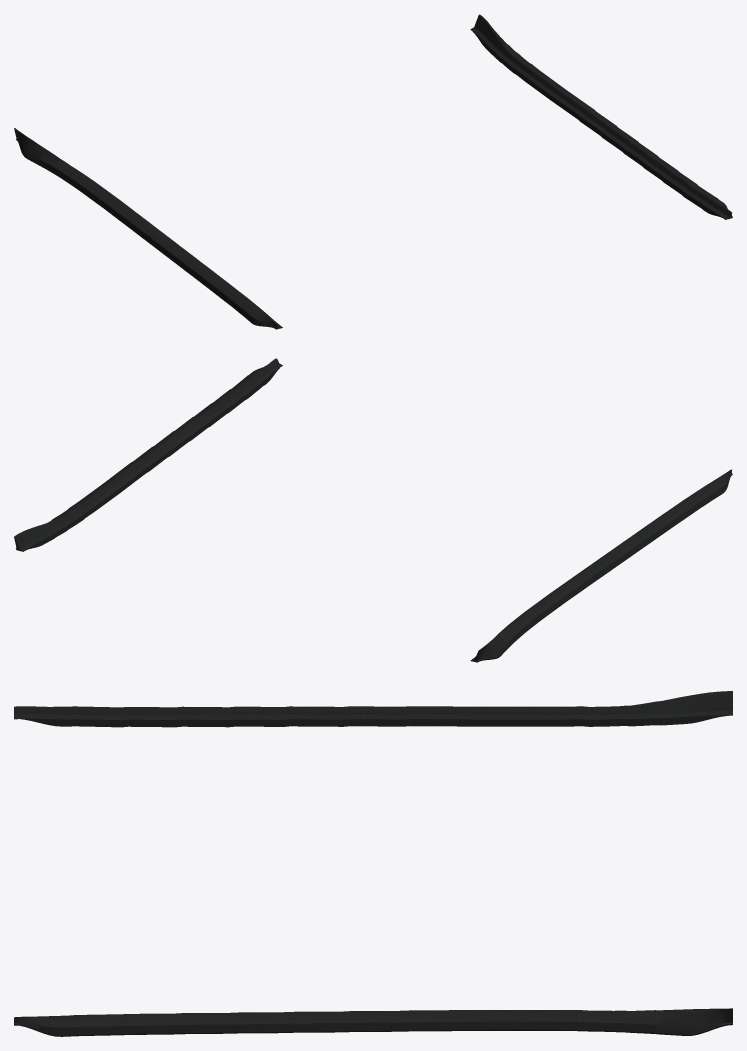
Rendered from RA20_msr_side_blades.glb.
3 renders of one model, top to bottom at view 1: azimuth 30°, elevation 25°; view 2: azimuth 150°, elevation 25°; view 3: azimuth 270°, elevation 25°, orthographic. The views are drawn at different scales.
Visible parts, largest first — view 1: MOD_ND_RA20_skirt_1, MOD_ND_RA20_skirt_neg1; view 2: MOD_ND_RA20_skirt_1, MOD_ND_RA20_skirt_neg1; view 3: MOD_ND_RA20_skirt_1, MOD_ND_RA20_skirt_neg1.
Boxes of the visible parts, x1=… form: MOD_ND_RA20_skirt_1: x1=470, y1=14, x2=732, y2=219; MOD_ND_RA20_skirt_neg1: x1=14, y1=128, x2=282, y2=329; MOD_ND_RA20_skirt_1: x1=14, y1=358, x2=282, y2=551; MOD_ND_RA20_skirt_neg1: x1=470, y1=469, x2=732, y2=662; MOD_ND_RA20_skirt_1: x1=14, y1=1008, x2=732, y2=1036; MOD_ND_RA20_skirt_neg1: x1=14, y1=691, x2=732, y2=727.
Bounding box in the file's own units: 1.66 × 0.063 × 1.56.
Materials: 1 (1 with a texture image).
